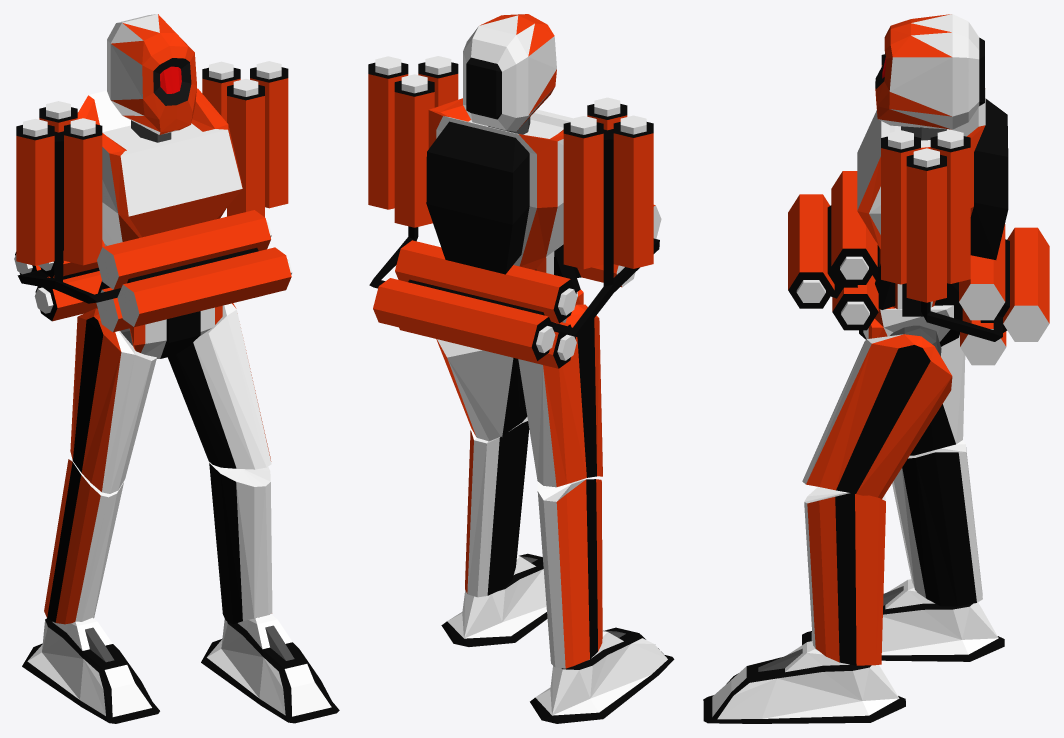
File: robots_000009.obj
3 renders of one model, left to right at view 1: azimuth 30°, elevation 25°; view 2: azimuth 150°, elevation 25°; view 3: azimuth 270°, elevation 25°, orthographic. The views are drawn at different scales.
Visible parts, largest first — view 1: Cylinder.004_Cylinder.006, Chest_plate_Cube.004, R_Thigh_Cube.005, R_Thigh.002_Cube.027, Head_base.002_Cube.030, R_Shin.002_Cube.029, R_Foot.002_Cube.035, R_Foot_Cube, R_Shin_Cube.007, Pelvis_Cube.006; view 2: Cylinder.004_Cylinder.006, Chest_plate_Cube.004, R_Shin_Cube.007, R_Thigh_Cube.005, Head_base.002_Cube.030, R_Shin.002_Cube.029, R_Foot_Cube, R_Thigh.002_Cube.027, R_Foot.002_Cube.035; view 3: Cylinder.004_Cylinder.006, R_Thigh.002_Cube.027, R_Shin.002_Cube.029, R_Foot.002_Cube.035, R_Shin_Cube.007, Head_base.002_Cube.030, Chest_plate_Cube.004, R_Foot_Cube, R_Thigh_Cube.005, Pelvis_Cube.006.
Part boxes in pixels (x1=…): Cylinder.004_Cylinder.006: x1=14, y1=61, x2=292, y2=332; Chest_plate_Cube.004: x1=77, y1=88, x2=242, y2=293; R_Thigh_Cube.005: x1=70, y1=308, x2=156, y2=493; R_Thigh.002_Cube.027: x1=168, y1=303, x2=271, y2=469; Head_base.002_Cube.030: x1=107, y1=14, x2=196, y2=134; R_Shin.002_Cube.029: x1=209, y1=461, x2=272, y2=624; R_Foot.002_Cube.035: x1=201, y1=614, x2=339, y2=723; R_Foot_Cube: x1=22, y1=617, x2=159, y2=723; R_Shin_Cube.007: x1=44, y1=459, x2=124, y2=624; Pelvis_Cube.006: x1=129, y1=305, x2=222, y2=358; Cylinder.004_Cylinder.006: x1=368, y1=56, x2=661, y2=368; Chest_plate_Cube.004: x1=426, y1=98, x2=581, y2=292; R_Shin_Cube.007: x1=537, y1=479, x2=602, y2=668; R_Thigh_Cube.005: x1=518, y1=304, x2=602, y2=487; Head_base.002_Cube.030: x1=463, y1=14, x2=556, y2=131; R_Shin.002_Cube.029: x1=465, y1=417, x2=529, y2=597; R_Foot_Cube: x1=530, y1=627, x2=674, y2=723; R_Thigh.002_Cube.027: x1=436, y1=339, x2=527, y2=441; R_Foot.002_Cube.035: x1=441, y1=553, x2=547, y2=646; Cylinder.004_Cylinder.006: x1=788, y1=54, x2=1049, y2=365; R_Thigh.002_Cube.027: x1=802, y1=334, x2=952, y2=498; R_Shin.002_Cube.029: x1=804, y1=487, x2=885, y2=665; R_Foot.002_Cube.035: x1=703, y1=641, x2=905, y2=723; R_Shin_Cube.007: x1=892, y1=440, x2=982, y2=606; Head_base.002_Cube.030: x1=875, y1=14, x2=984, y2=129; Chest_plate_Cube.004: x1=857, y1=88, x2=1008, y2=316; R_Foot_Cube: x1=802, y1=579, x2=1004, y2=661; R_Thigh_Cube.005: x1=910, y1=335, x2=965, y2=455; Pelvis_Cube.006: x1=859, y1=282, x2=962, y2=346.
Size of the model in its own units: 1.38 by 3.04 by 1.44.
